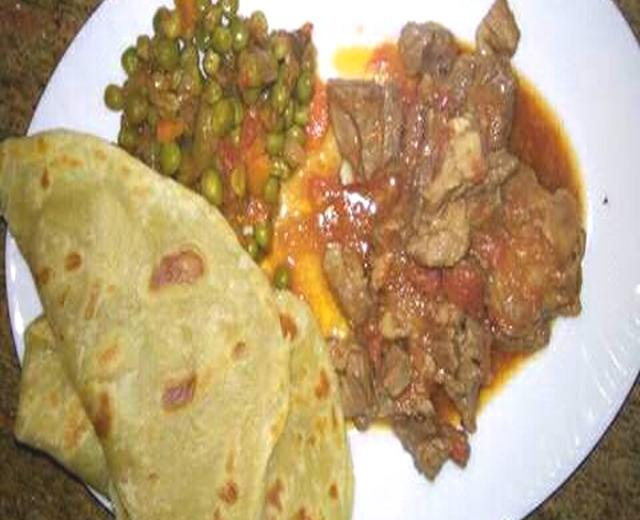chapati: (0, 130, 353, 519)
